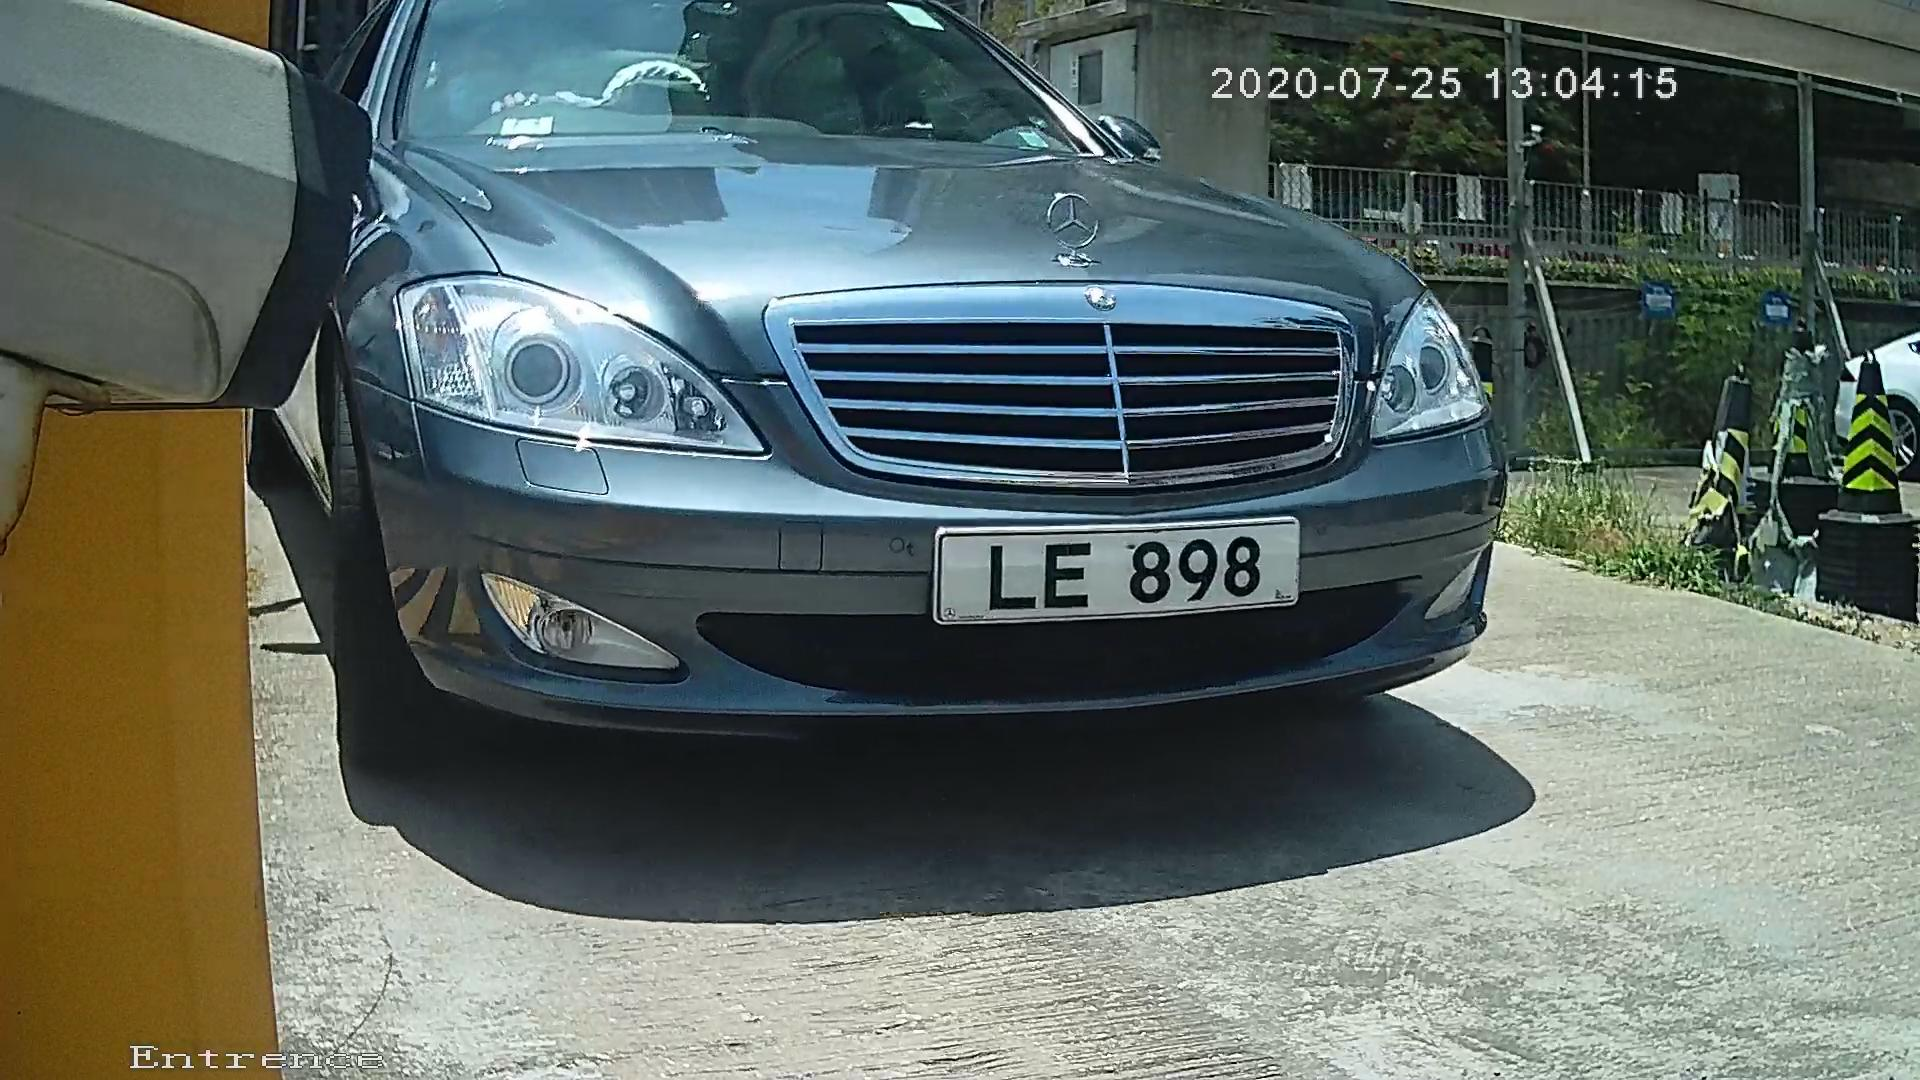Car: (129, 1, 1612, 844)
License Plate: (901, 507, 1321, 647)
